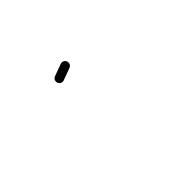i: (44, 52, 93, 100)
